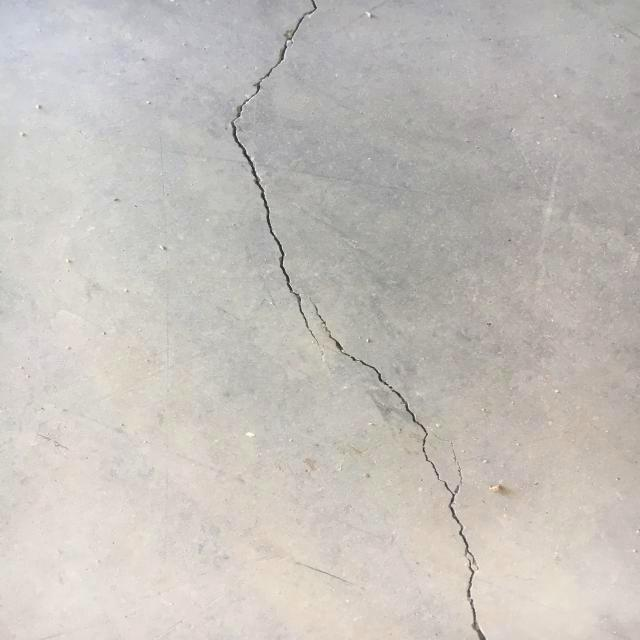SurfaceCrack: (205, 1, 519, 640)
